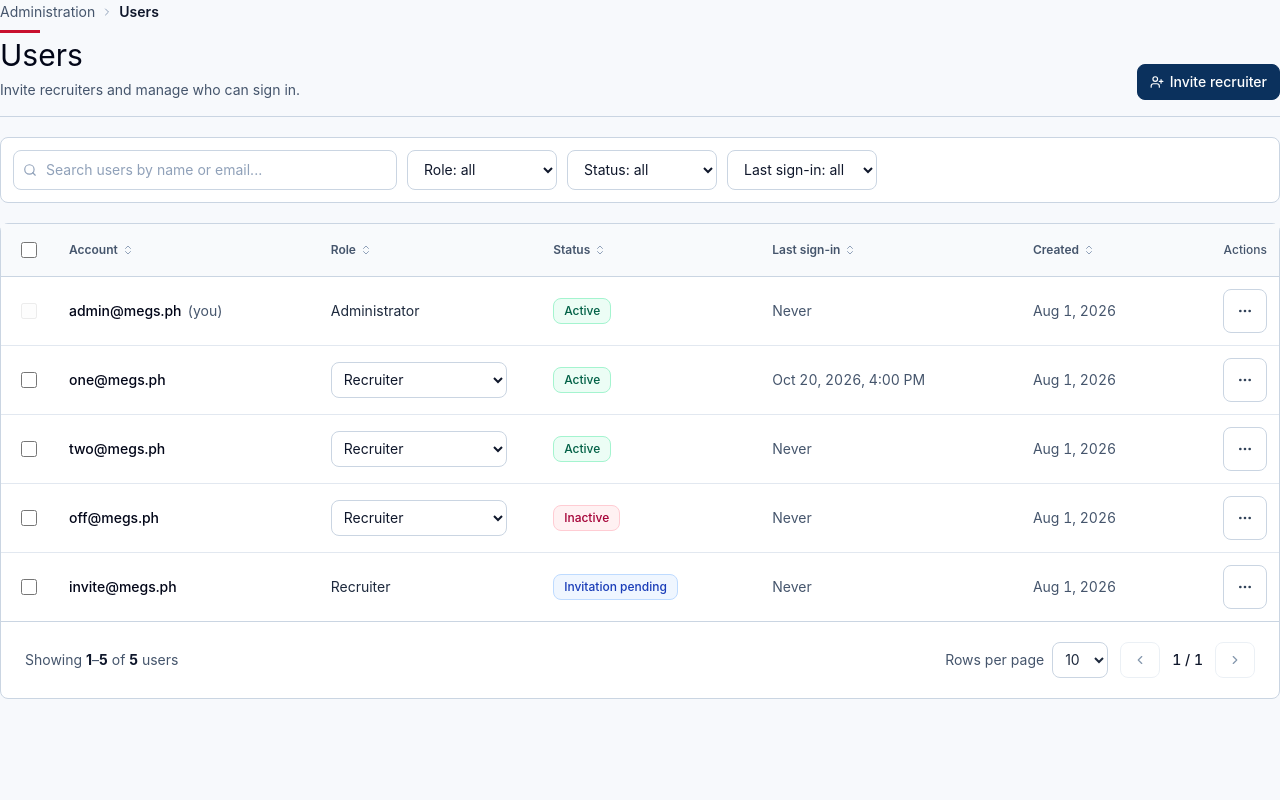
Test: UsersPage matrix › opens the Change role dialog instead of saving when the inline role changes
Select "Administrator" in the dropdown named "Role for one@megs.ph" at (419, 380), box left=331, top=362, right=507, bottom=398
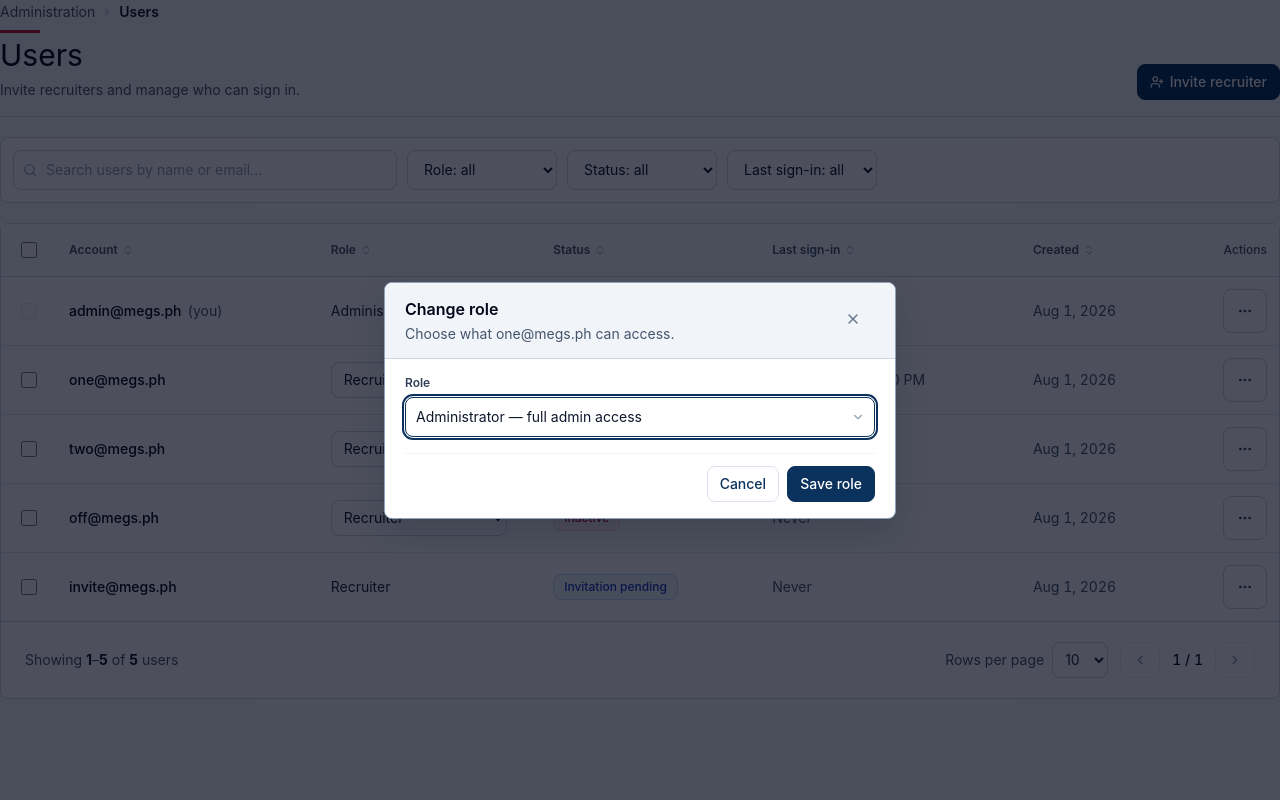
Now the text "Choose what one@megs.ph can access." is shown, box left=405, top=322, right=674, bottom=344
